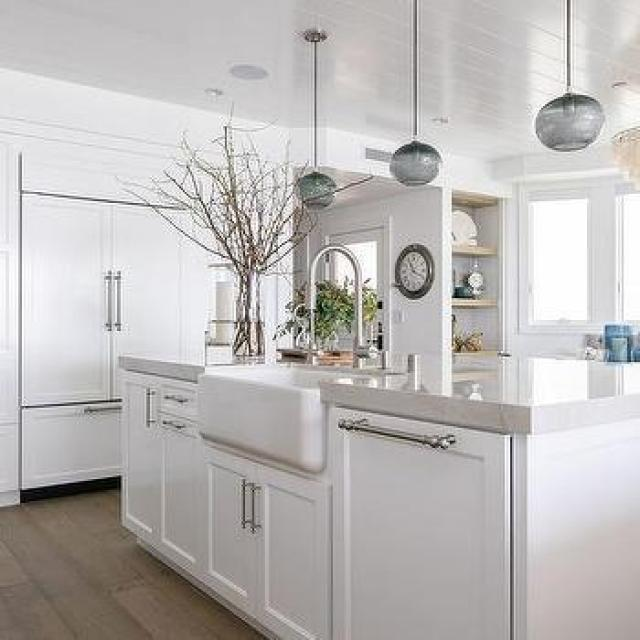dishwasher: (322, 413, 519, 640)
